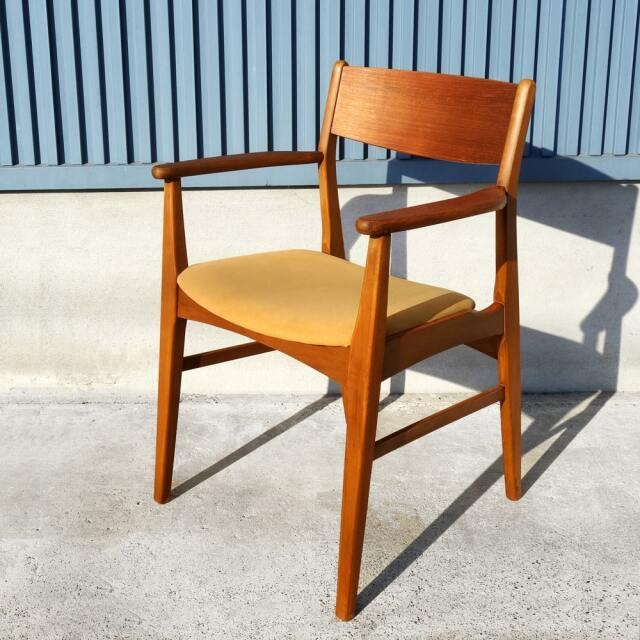chair vintage: (137, 52, 536, 622)
